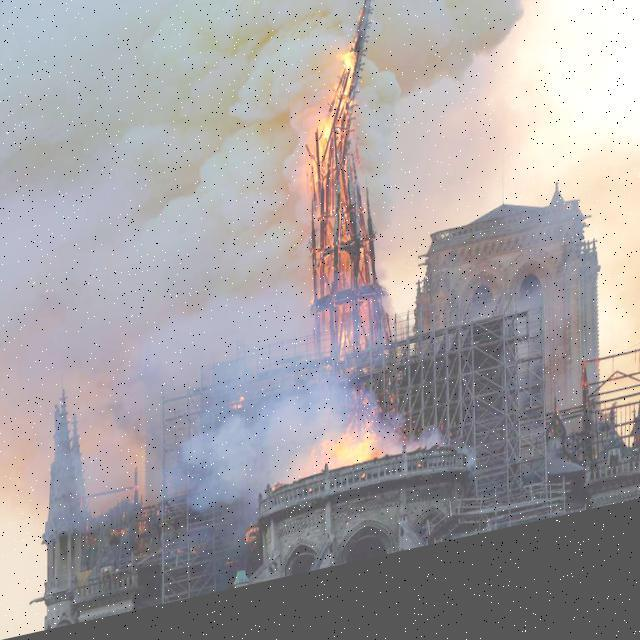Fire: (269, 15, 404, 502)
